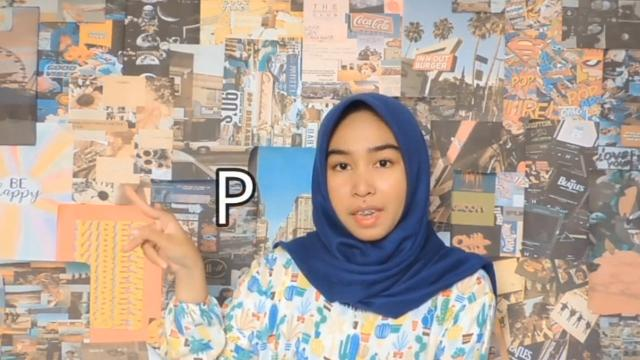P: (120, 182, 206, 274)
